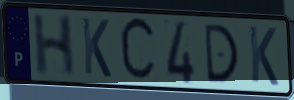4: (164, 18, 197, 86)
C: (118, 14, 159, 86)
D: (202, 22, 241, 85)
H: (31, 13, 76, 78)
K: (80, 15, 113, 81), (247, 23, 280, 89)
